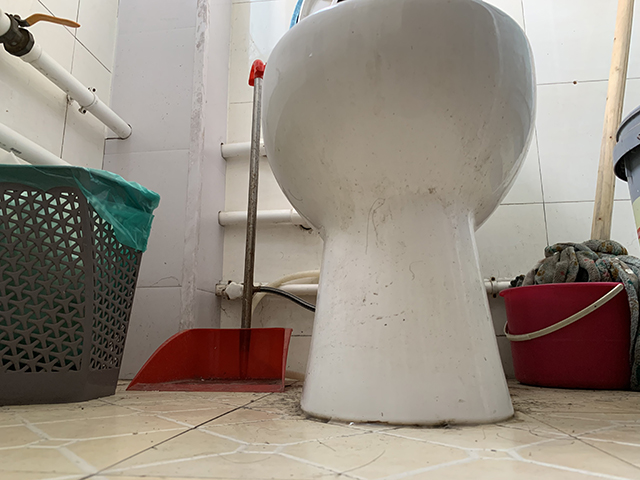closestool: (258, 1, 540, 429)
trashcan: (1, 163, 156, 408)
